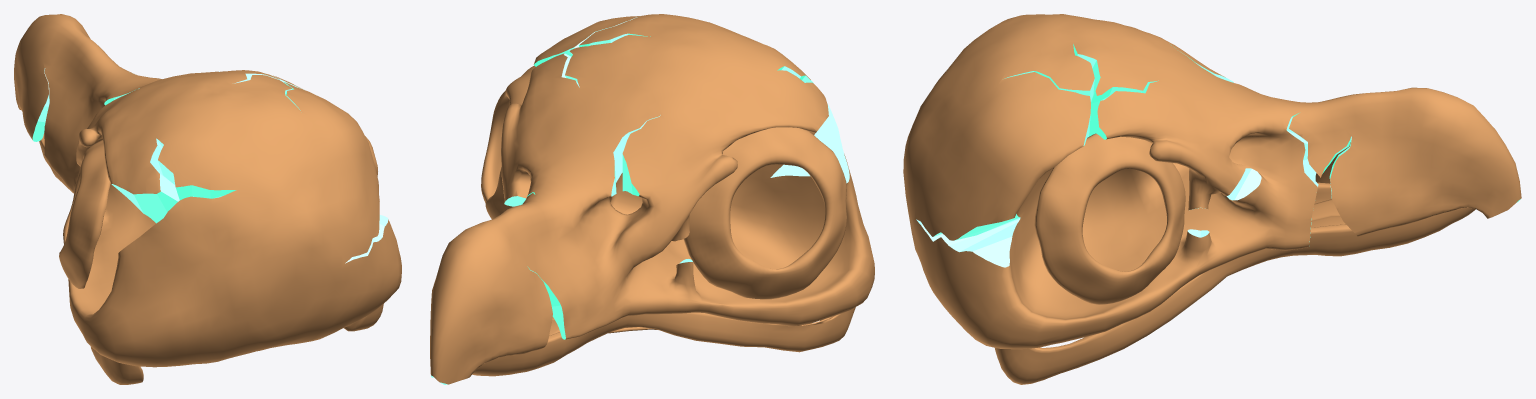
The model's file is eagle_skull_cracked.glb.
3 renders of one model, left to right at view 1: azimuth 30°, elevation 25°; view 2: azimuth 150°, elevation 25°; view 3: azimuth 270°, elevation 25°, orthographic. The views are drawn at different scales.
Visible parts, largest first — view 1: eagle head state 2, eagle eye left, eagle jar; view 2: eagle head state 2, eagle eye left, eagle jar, eagle eye right; view 3: eagle head state 2, eagle eye right, eagle jar, eagle tongue.
Boxes of the visible parts, left/top/right/bottom form: eagle head state 2: left=14, top=14, right=401, bottom=367; eagle eye left: left=59, top=140, right=110, bottom=288; eagle jar: left=39, top=133, right=383, bottom=384; eagle head state 2: left=430, top=14, right=874, bottom=384; eagle eye left: left=683, top=127, right=846, bottom=299; eagle jar: left=472, top=307, right=855, bottom=376; eagle eye right: left=481, top=65, right=535, bottom=219; eagle head state 2: left=903, top=14, right=1521, bottom=349; eagle eye right: left=1034, top=133, right=1185, bottom=304; eagle jar: left=995, top=182, right=1475, bottom=384; eagle tongue: left=1311, top=199, right=1345, bottom=227.
Size of the model in its own units: 2.89 by 2.32 by 4.6.
